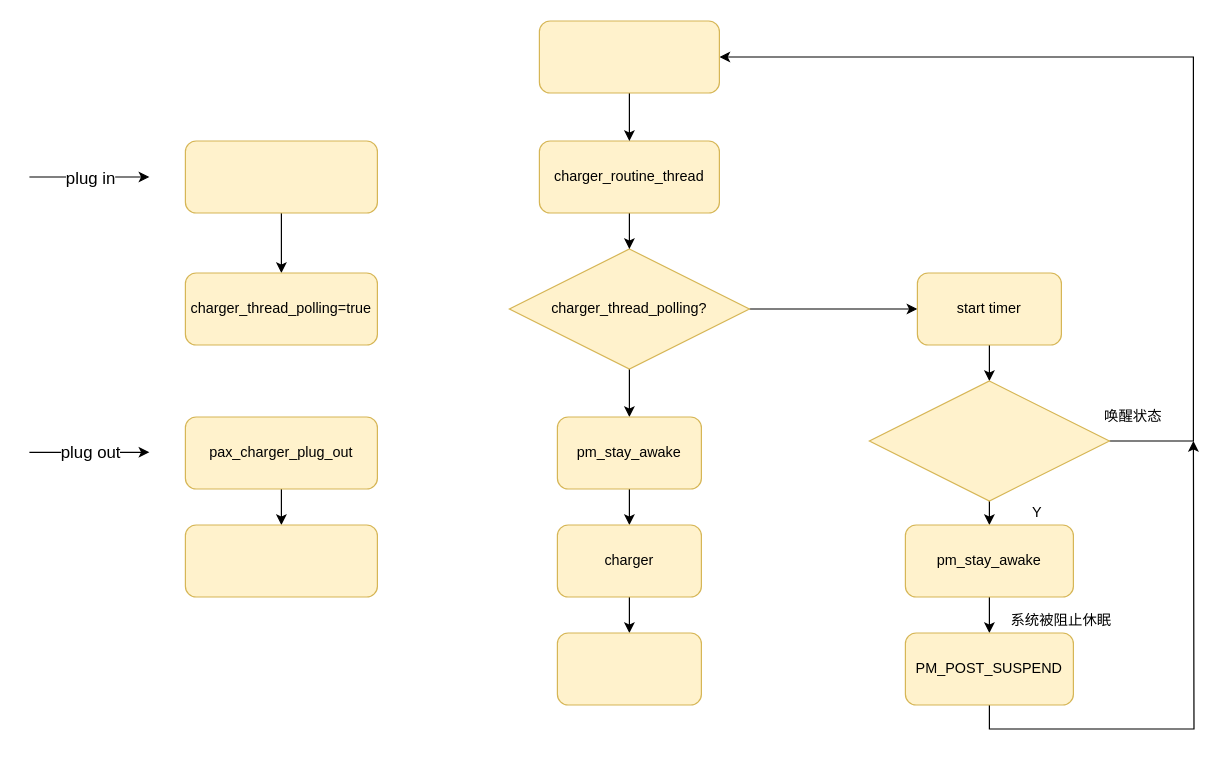
This 1225x760 diagram has some shape labels left out. Each missing label, with the centre of its shape:
"charger_thread_polling=false" goes at (280,560).
"pax_charger_plug_in" goes at (280,176).
"pm_relax" goes at (628,668).
"PM_SUSPEND_PREPARE?" goes at (988,440).
"wake_up_charger" goes at (628,56).
